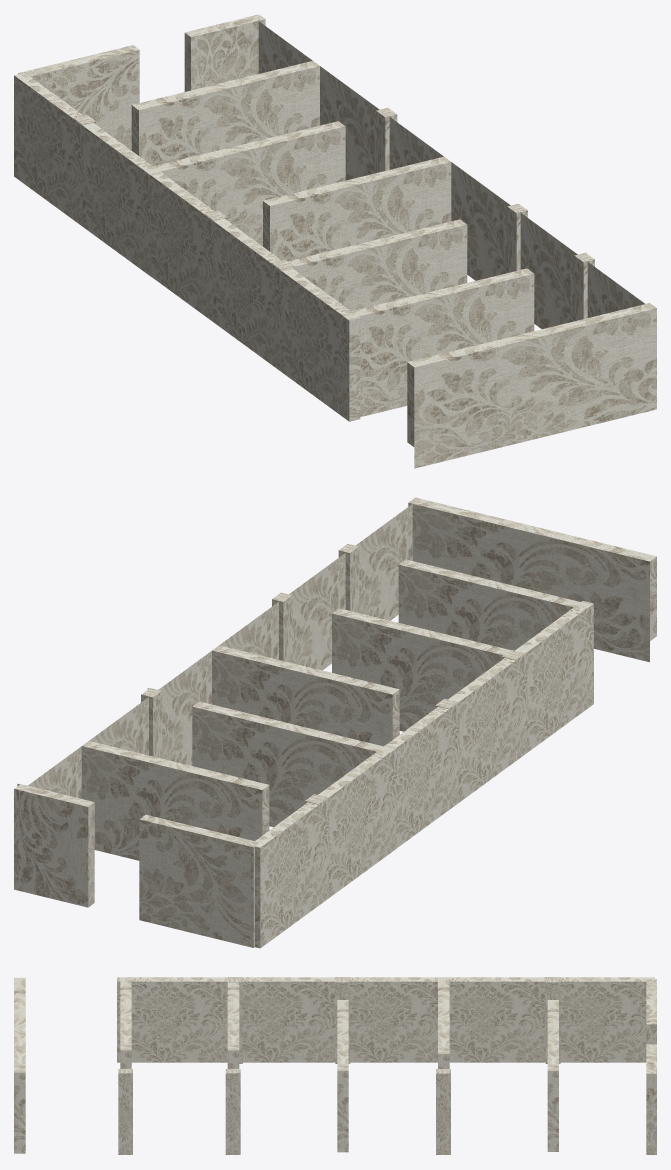
The model's file is walls_101.gltf.
3 renders of one model, top to bottom at view 1: azimuth 30°, elevation 25°; view 2: azimuth 150°, elevation 25°; view 3: azimuth 270°, elevation 25°, orthographic. The views are drawn at different scales.
Parts seen in each view (by area): view 1: polySurface4264, polySurface4258, polySurface4245, polySurface4225, polySurface4236, polySurface4226, polySurface4250, polySurface4256, polySurface4244, polySurface4238, polySurface4234, polySurface4246 (+9 smaller); view 2: polySurface4226, polySurface4264, polySurface4225, polySurface4236, polySurface4245, polySurface4250, polySurface4258, polySurface4234, polySurface4244, polySurface4238, polySurface4256, polySurface4246 (+9 smaller); view 3: polySurface4256, polySurface4244, polySurface4238, polySurface4234, polySurface4246, polySurface4264, polySurface4226, polySurface4245, polySurface4225, polySurface4249, polySurface4240, polySurface4253 (+6 smaller).
Part boxes in pixels (x1,y1,x2,y2): polySurface4264: (407,303,656,468); polySurface4258: (342,268,534,416); polySurface4245: (263,156,451,261); polySurface4225: (131,61,319,166); polySurface4236: (143,121,345,246); polySurface4226: (18,14,265,150); polySurface4250: (288,219,467,311); polySurface4256: (280,269,360,421); polySurface4244: (213,218,292,372); polySurface4238: (82,123,161,276); polySurface4234: (14,73,93,226); polySurface4246: (151,172,224,321); polySurface4226: (14,784,259,947); polySurface4264: (408,497,656,662); polySurface4225: (81,741,269,860); polySurface4236: (192,701,393,827); polySurface4245: (212,645,399,746); polySurface4250: (332,608,510,731); polySurface4258: (398,559,590,650); polySurface4234: (253,795,328,948); polySurface4244: (448,652,527,802); polySurface4238: (318,745,396,897); polySurface4256: (515,601,593,752); polySurface4246: (380,702,459,847); polySurface4256: (117,977,227,1062); polySurface4244: (224,977,335,1062); polySurface4238: (435,977,545,1062); polySurface4234: (544,977,654,1062); polySurface4246: (334,977,444,1062); polySurface4264: (14,977,25,1153); polySurface4226: (646,979,656,1154); polySurface4245: (337,1000,348,1152); polySurface4225: (547,1000,558,1151); polySurface4249: (225,1069,240,1154); polySurface4240: (436,1069,450,1154); polySurface4253: (118,1069,132,1154).
Bounding box in the file's own units: 15.54 × 6.06 × 43.29.
1 material, 1 textured.
